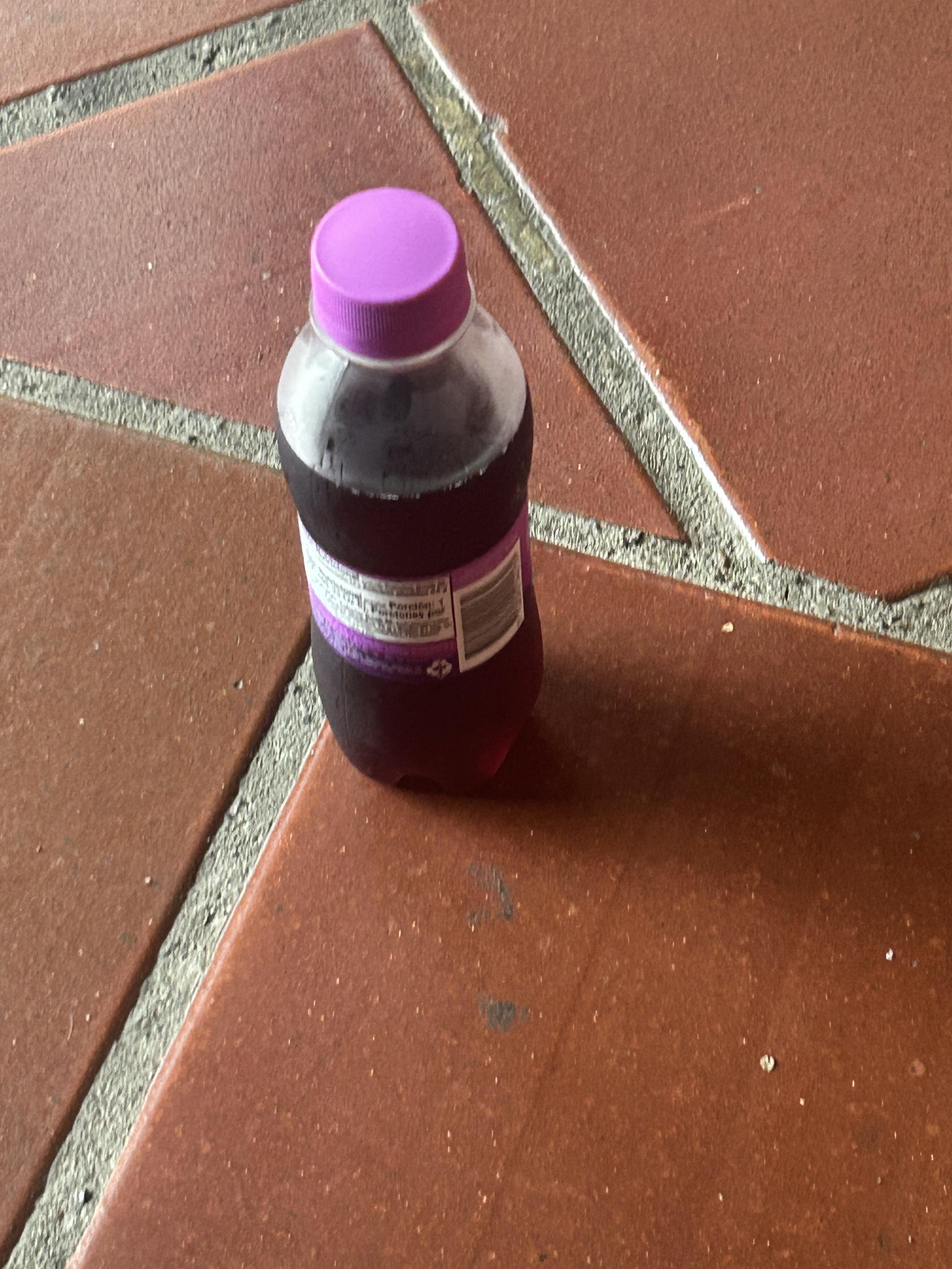uva: (277, 187, 542, 790)
